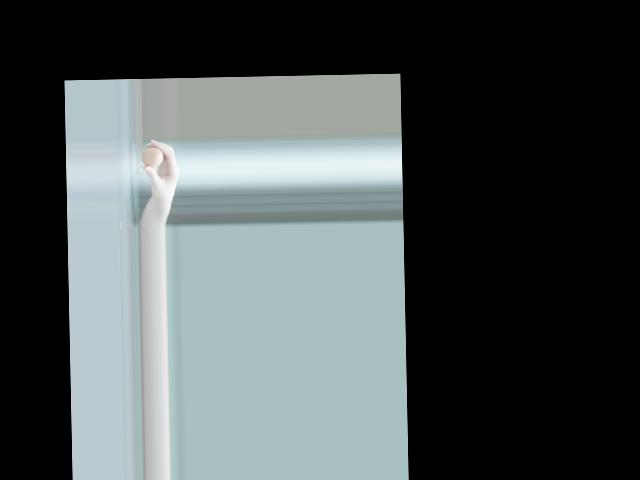egg: (141, 146, 163, 167)
